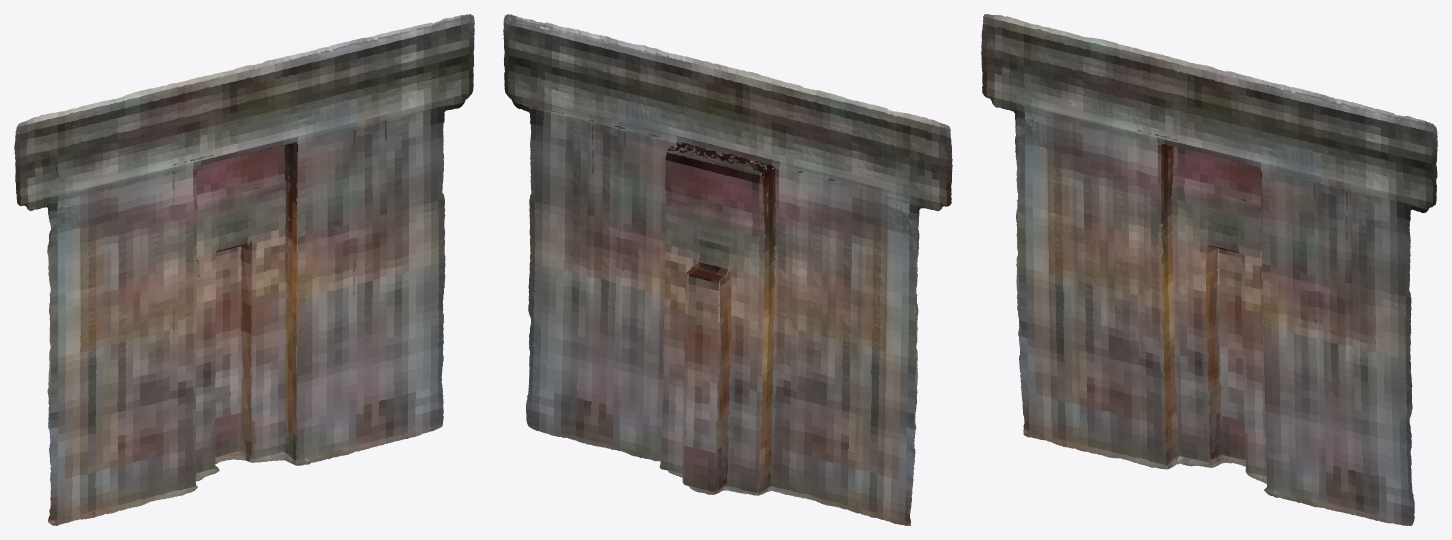
3 views of the same model, side by side, from view 1: azimuth 30°, elevation 25°; view 2: azimuth 150°, elevation 25°; view 3: azimuth 330°, elevation 25° (orthographic).
Parts seen in each view (by area): view 1: Object_2; view 2: Object_2; view 3: Object_2.
Boxes of the visible parts, <box> form: Object_2: <box>14,14,474,525</box>; Object_2: <box>503,14,952,525</box>; Object_2: <box>981,14,1437,525</box>.
Bounding box in the file's own units: 5.3 × 4.63 × 0.5741.
Materials: 1 (1 with a texture image).
